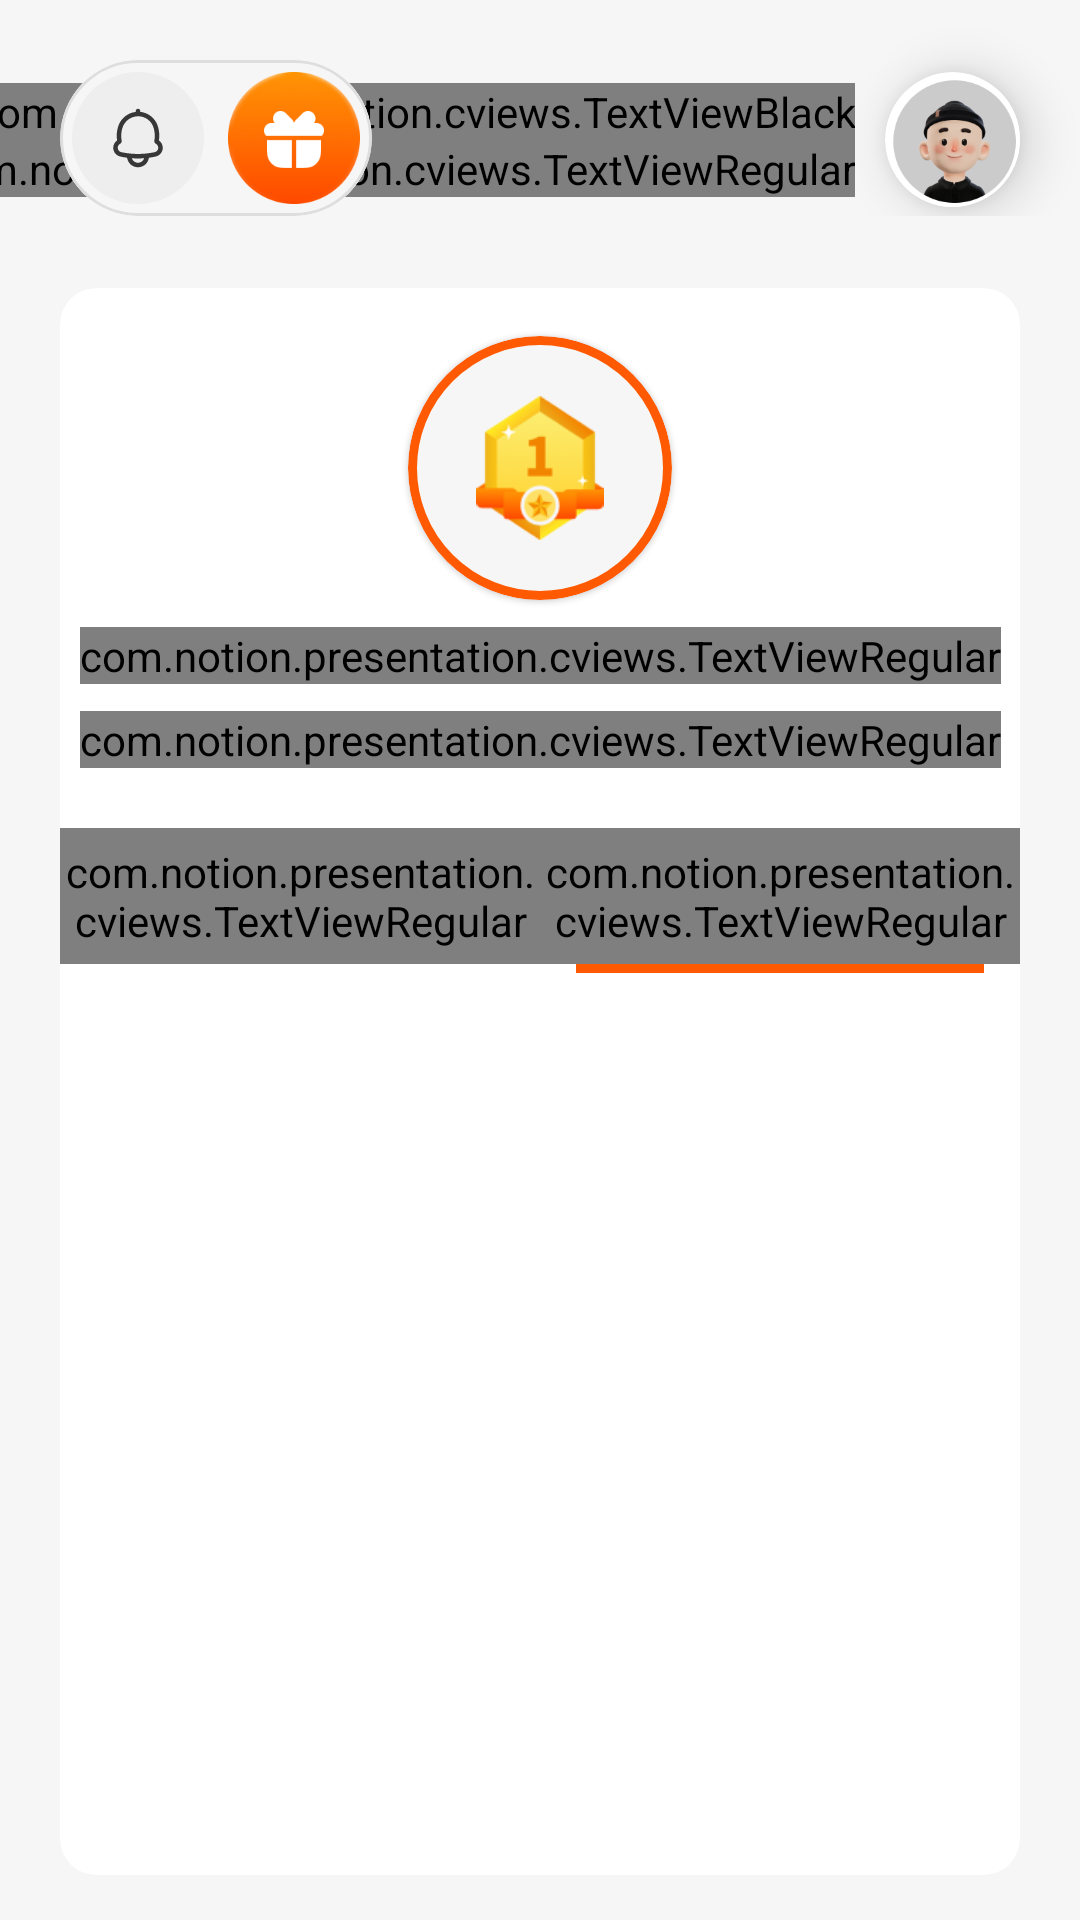

Where icons sit on this 1080*1920 app screen, as (x1, y1, x2, y2):
gifts: (228, 72, 360, 204)
medal: (408, 336, 672, 600)
notification: (113, 108, 163, 168)
